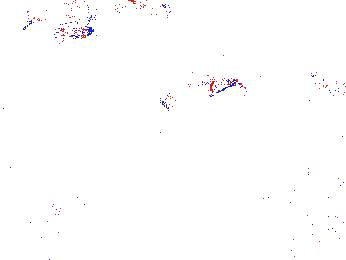X-ray fish: (42, 1, 96, 22)
glassfish: (160, 73, 235, 113)
red belly glassfish: (309, 68, 344, 97)
redtail glassfish: (18, 5, 94, 41), (93, 1, 127, 28), (134, 1, 175, 23)
